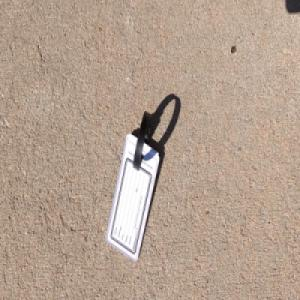LuggageTag: (104, 108, 159, 265)
